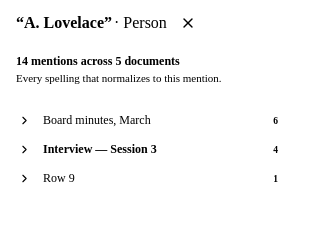
Test: MentionDetailPanel — Level 2 › says the text moved rather than saying the mention is absent
The image size is (320, 239).
Click the 1st button with test id "mention-detail-expand": (24, 121) [16, 110, 33, 131]
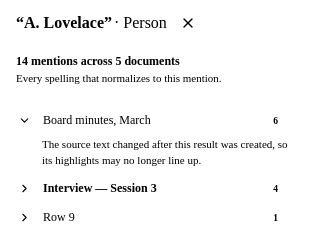
Expected: the text with test id "mention-occurrence-unpositioned" shows "The source text changed", [42, 138, 288, 166]
